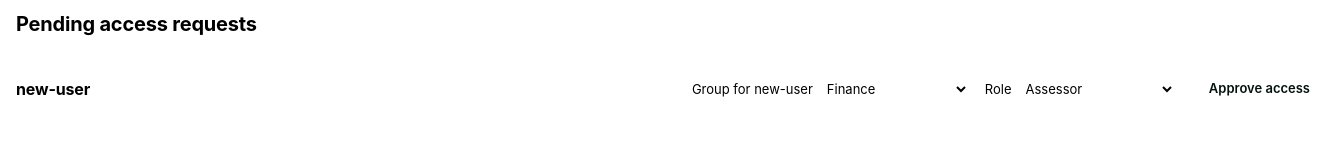
it: keeps the role selected after an approval fails
This screenshot has width=1343, height=160.
Step 1. Select "Service Manager" in the dropdown named "Role for new-user" → x=1093, y=89, box [1012,71,1174,107]
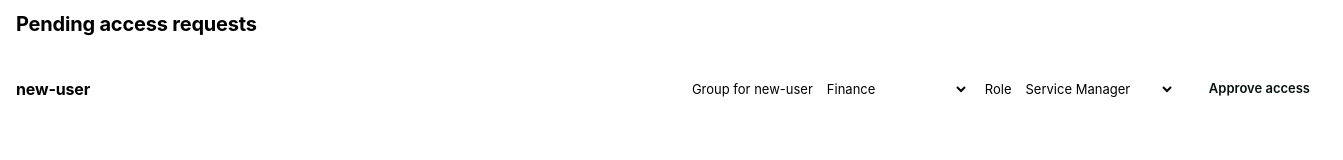
Step 2. Click the button "Approve access" → x=1259, y=89, box [1193,71,1326,107]
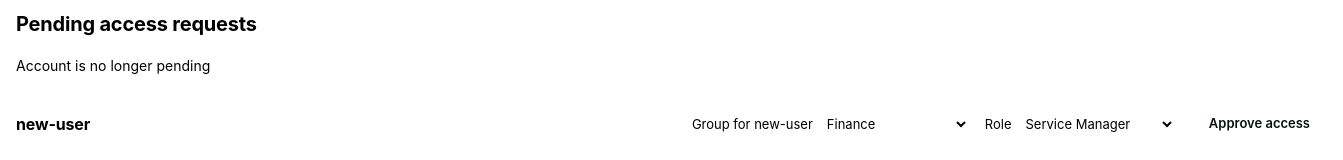
Expected: the button "Approve access" is enabled, [1193,106,1326,142]
Now the message reads "Account is no longer pending", box [16,57,210,74]
